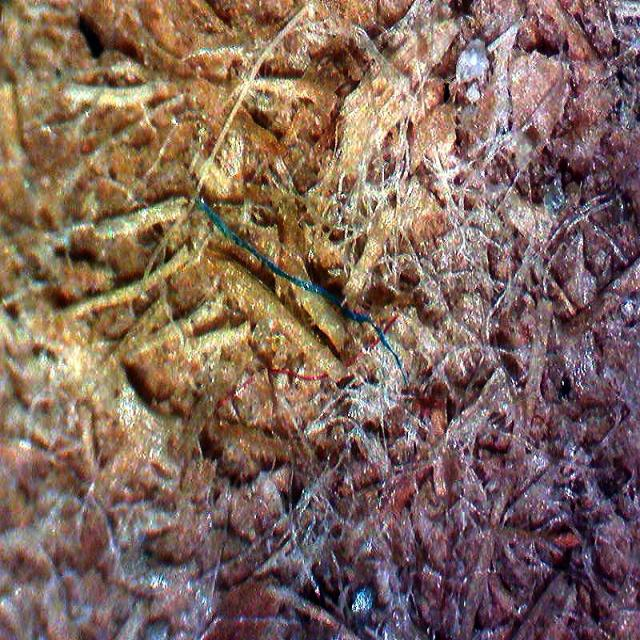microplastic: (198, 197, 411, 388), (216, 311, 400, 423)
